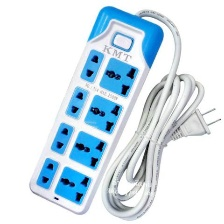three_eye_plug: (27, 5, 165, 216)
